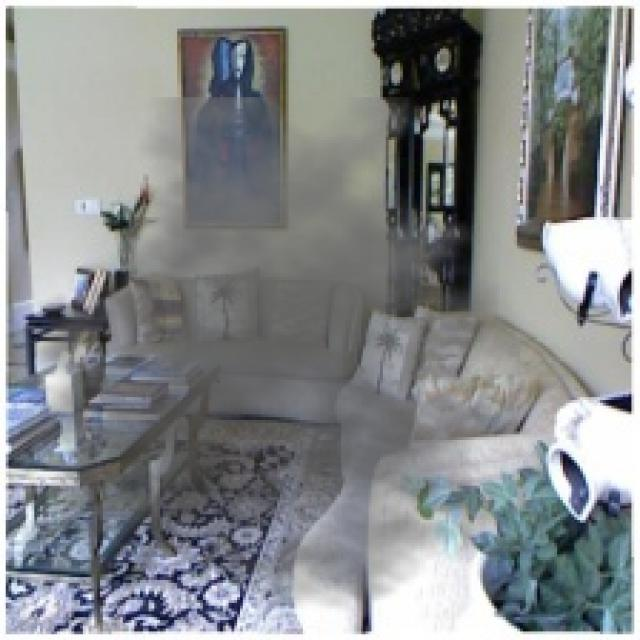smoke: (11, 97, 566, 612)
